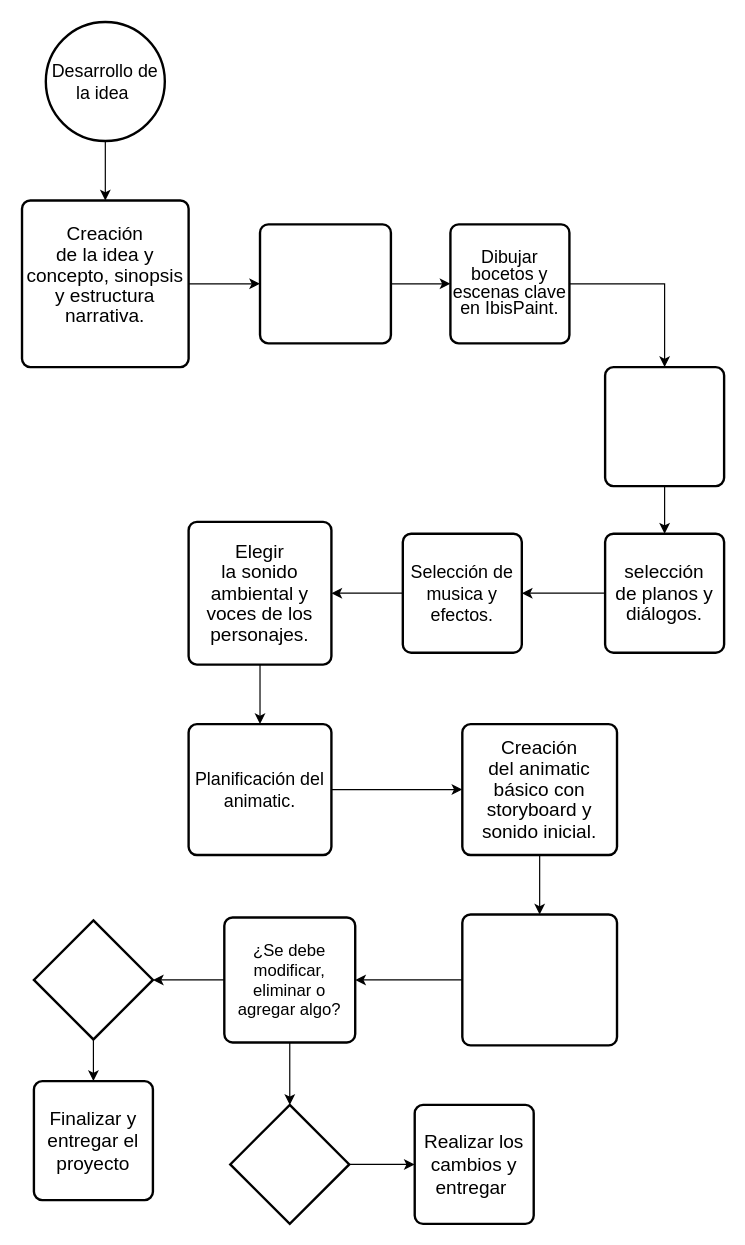
Image size: 745x1245. Some labels were removed from this diagram. The centre of each missing label's shape, as x and y in pixels:
Creacion del StoryBoard: the point at 325,283
Elaboración del guion tecnico: the point at 664,426
No: the point at 93,979
Revisión final de todo lo hecho: the point at 539,979
Si: the point at 289,1164
